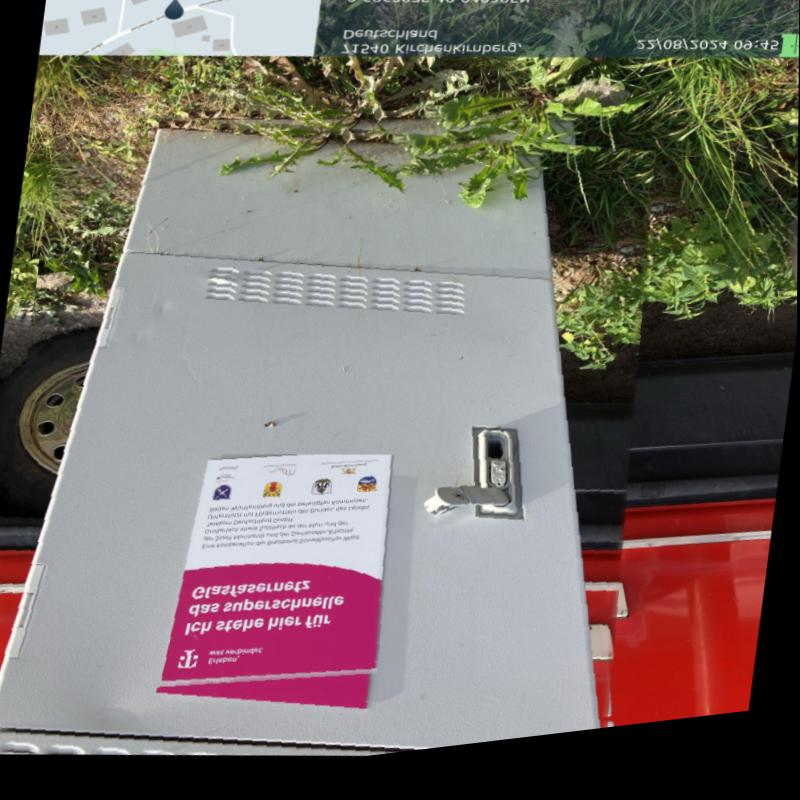NT-Gehause: (0, 130, 598, 765)
Steaker: (153, 461, 397, 691)
